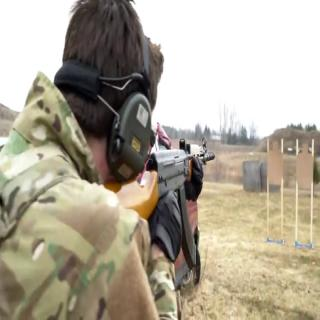gun: (106, 131, 224, 275)
